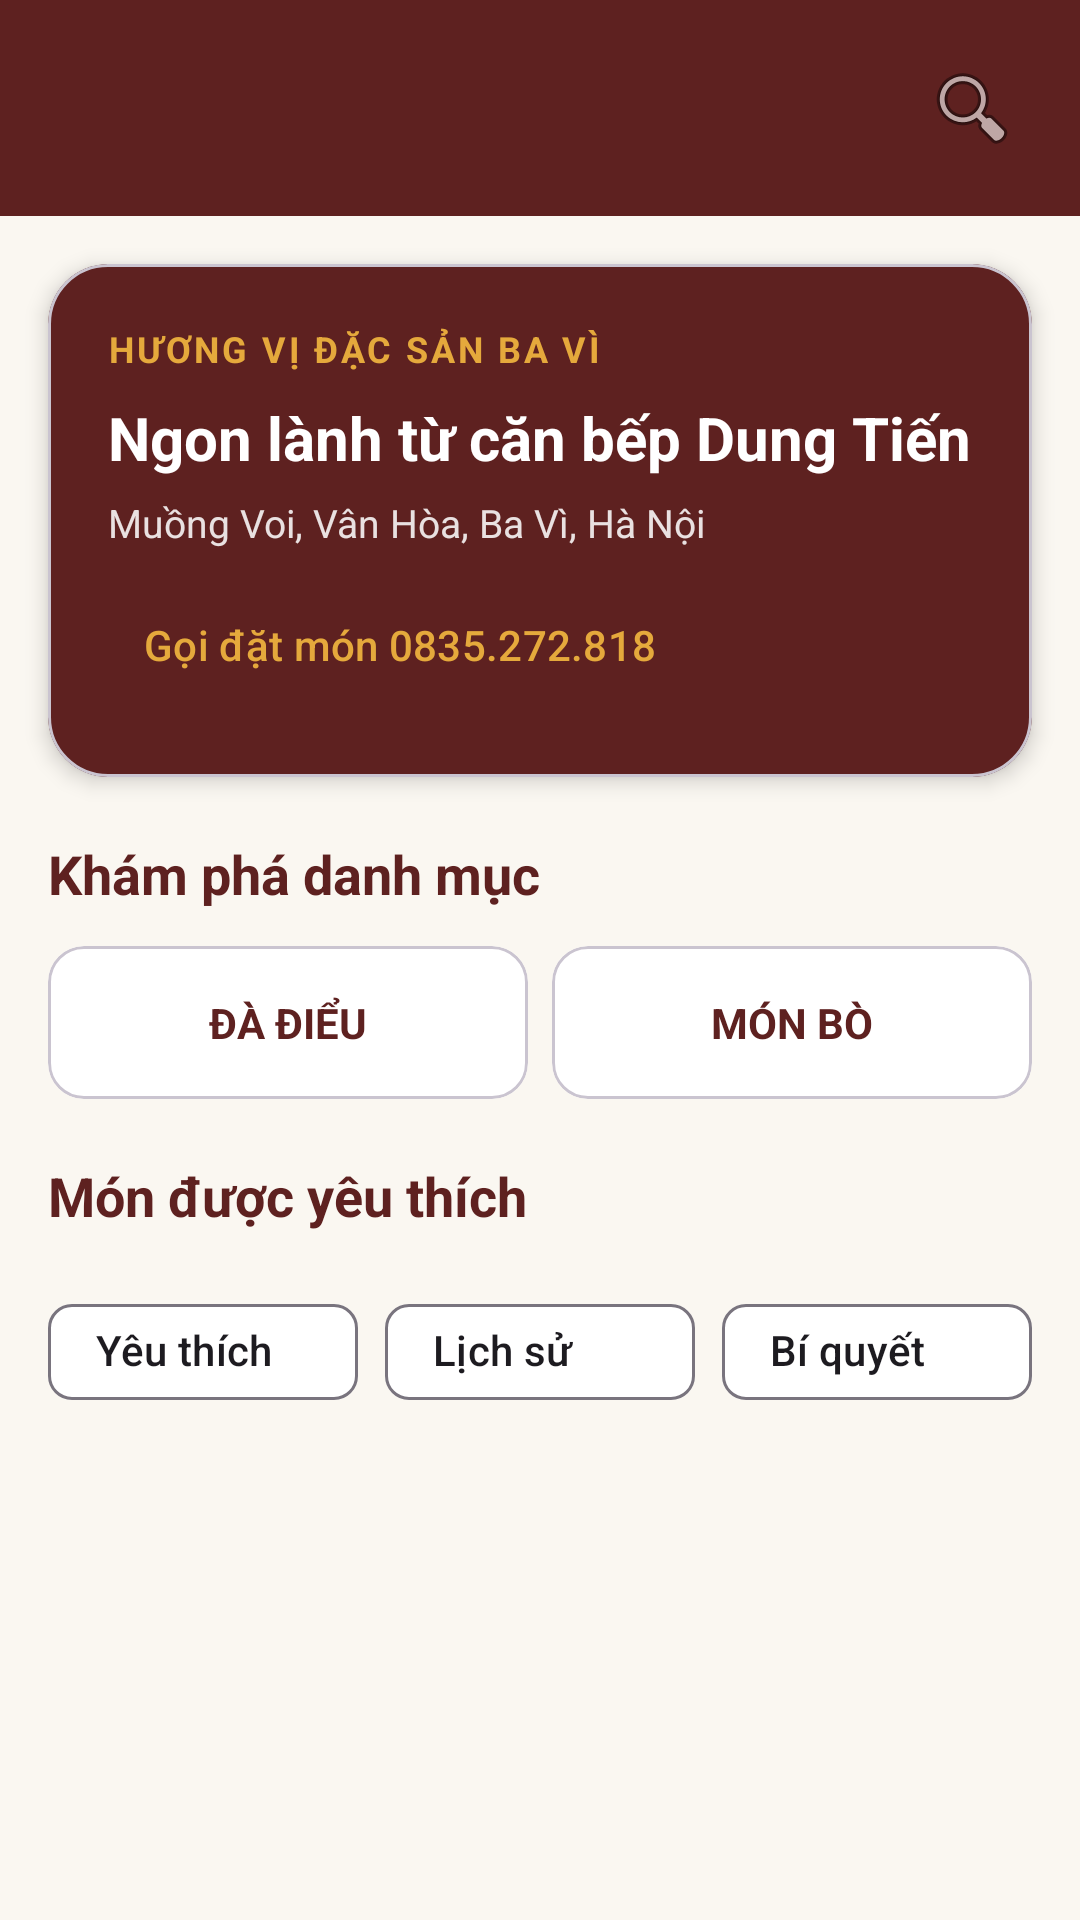

Where icons sit on this 1080×1920 app screen, as region(x1, y1, x2, y2):
Tìm kiếm: region(937, 73, 1007, 144)
